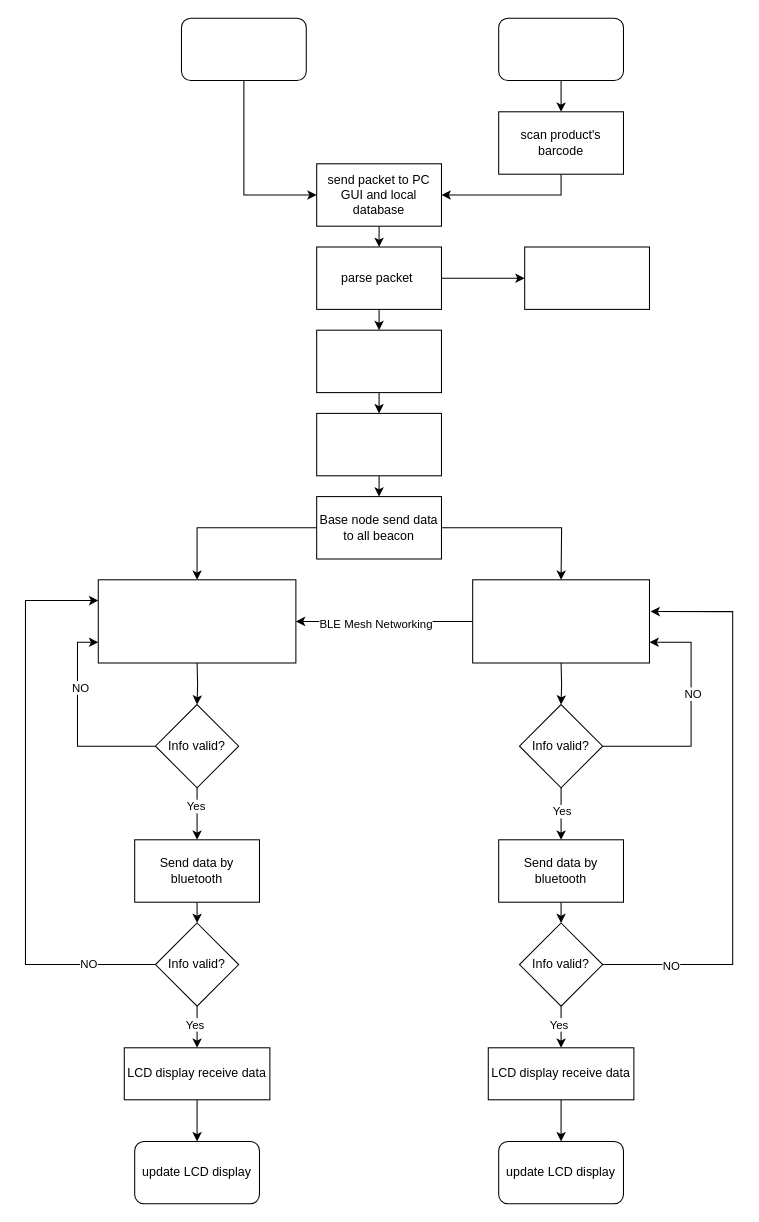
Image size: 759x1222. Some labels were removed from this diagram. Here are the shapes that lost their labels. From the top down, the centre of each, then its label:
[243,49]: NFC User reader read user card
[560,49]: Bar code scanner scan model barcode
[586,277]: update GUI
[378,361]: transform to JSON
[378,444]: send data to Base node
[196,621]: Mesh Node A receive data
[560,621]: Mesh Node B receive data
